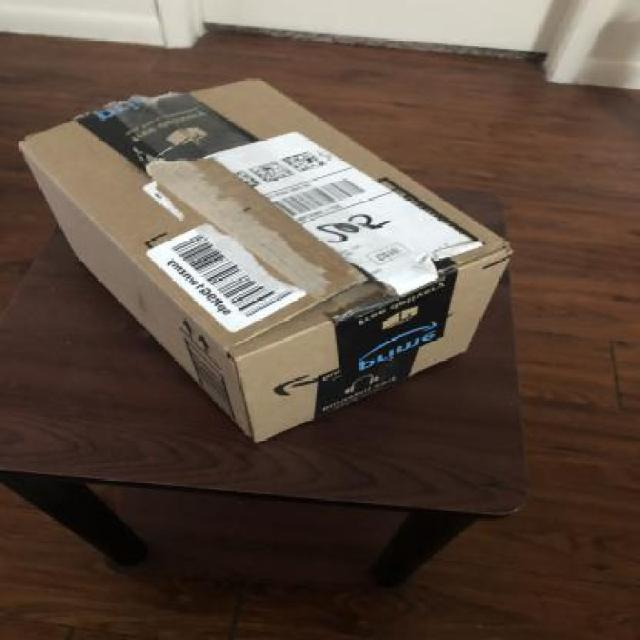cardboxes: (1, 64, 518, 458)
